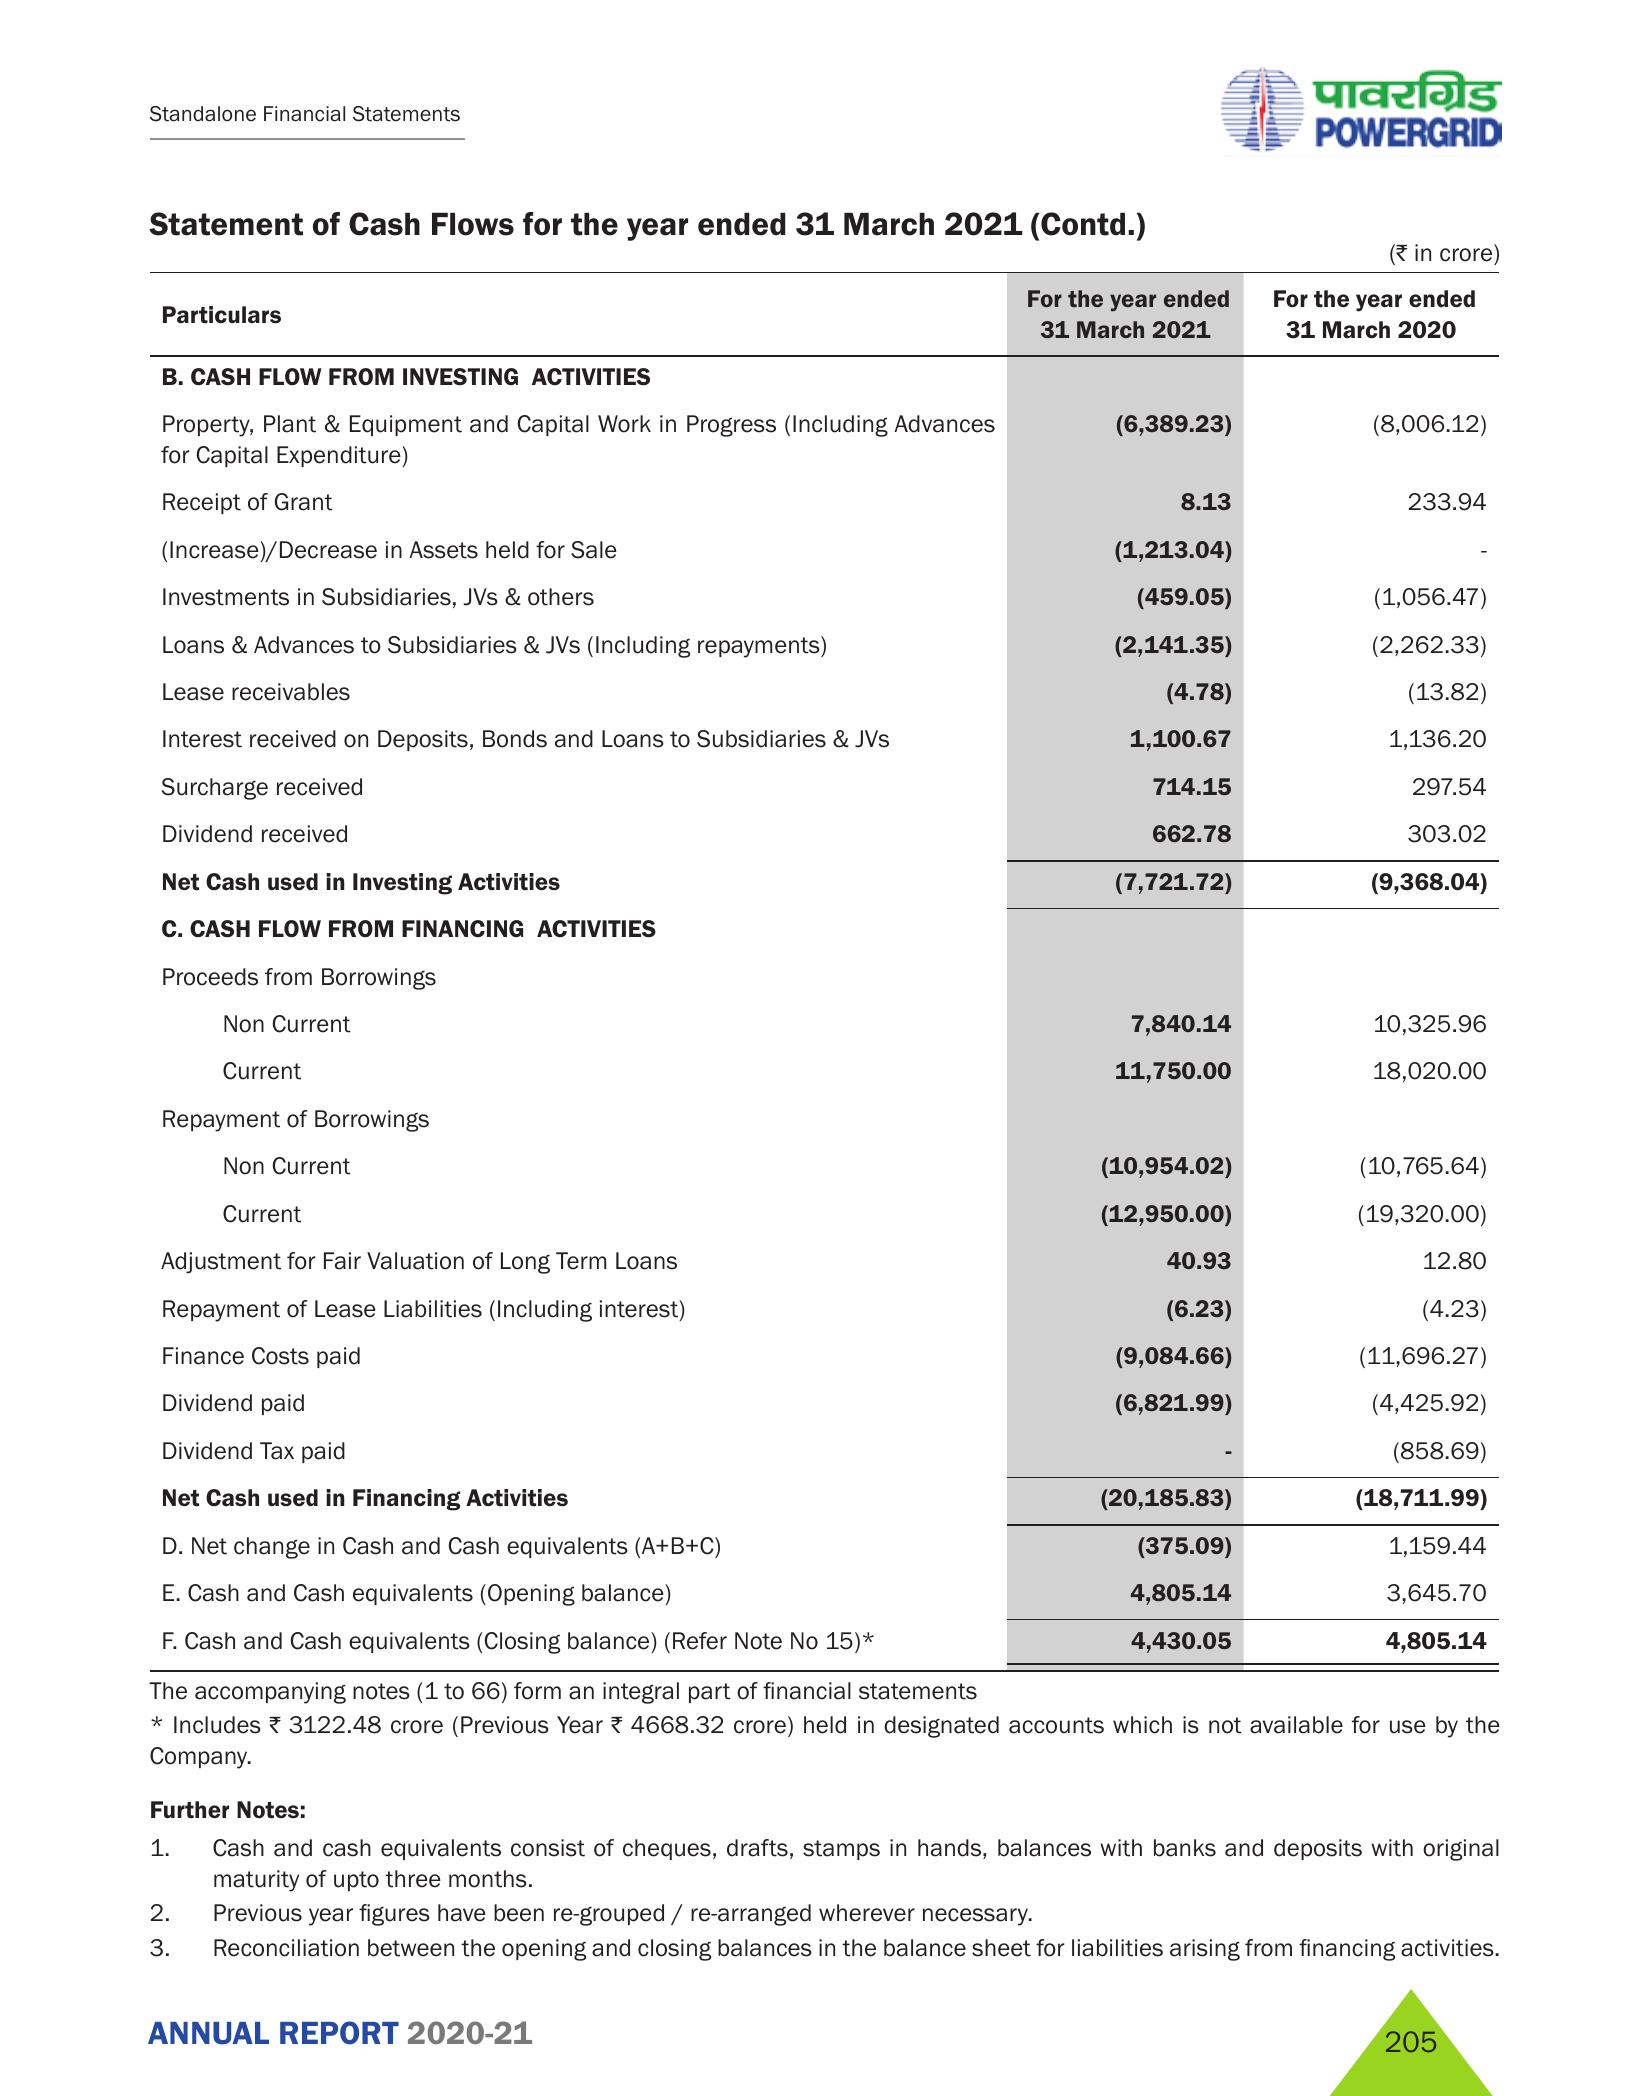Footer: (0, 1979, 1650, 2096)
Header: (0, 0, 1650, 163)
Table: (122, 242, 1533, 1679)
